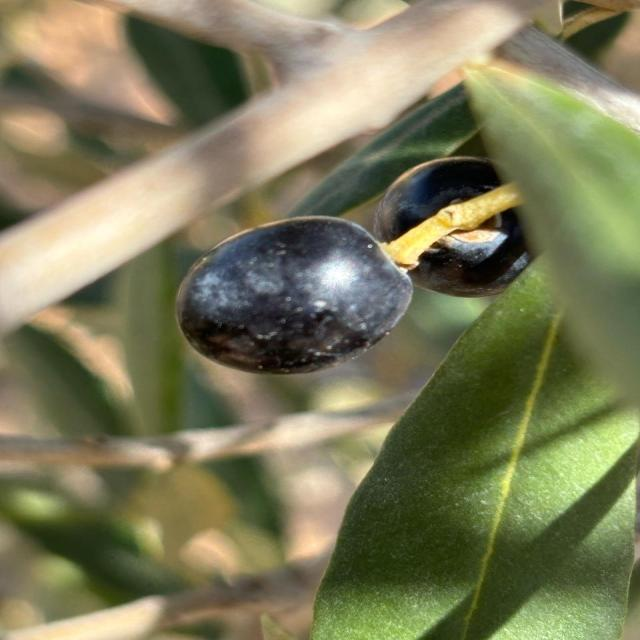Healthy: (176, 216, 413, 376)
